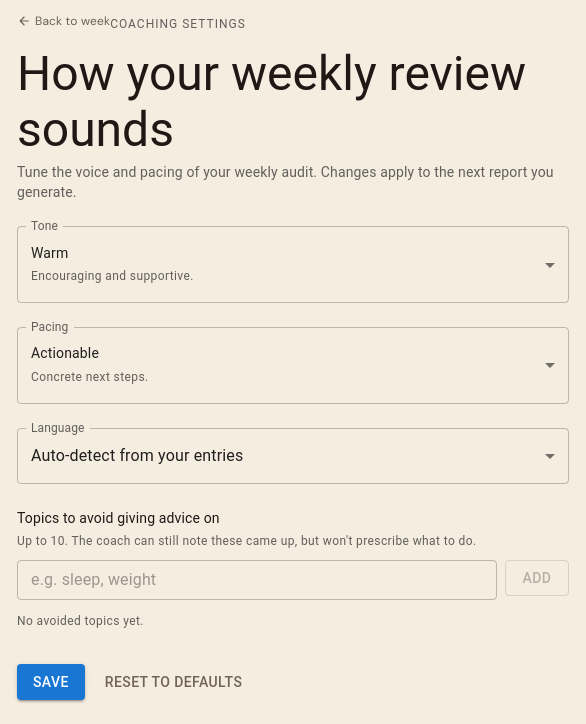
Test: SettingsPage › rejects a duplicate topic case-insensitively without adding a second chip
Type "Sleep" into the field with placeholder "e.g. sleep, weight".
click(257, 580); type("Sleep")  # box [17,560,497,600]
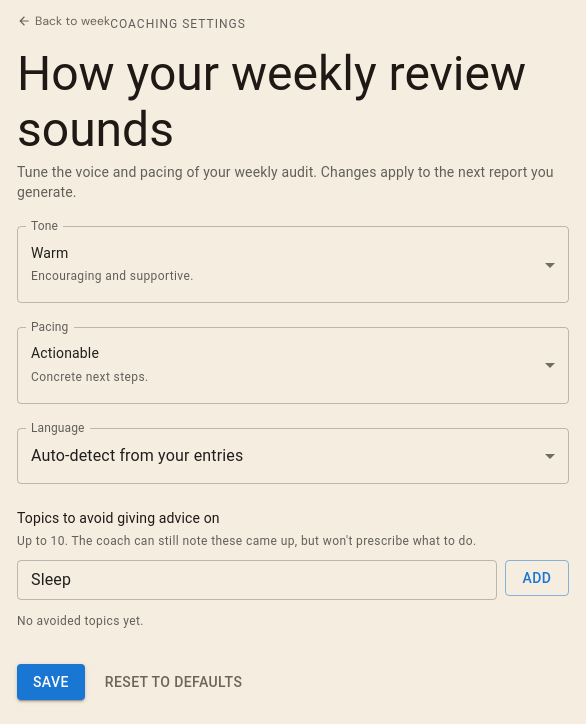
Press Enter in the field with placeholder "e.g. sleep, weight", box [17,560,497,600]
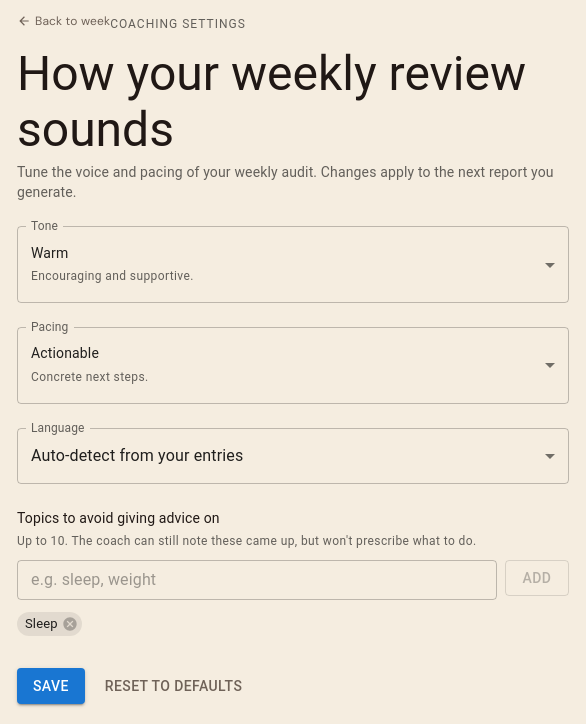
Expected: the text "Sleep" is shown, [25,616,58,631]
Re-add same value with different case — the input clears but no new chip appears.
Type "sleep" into the field with placeholder "e.g. sleep, weight".
click(257, 580); type("sleep")  # box [17,560,497,600]
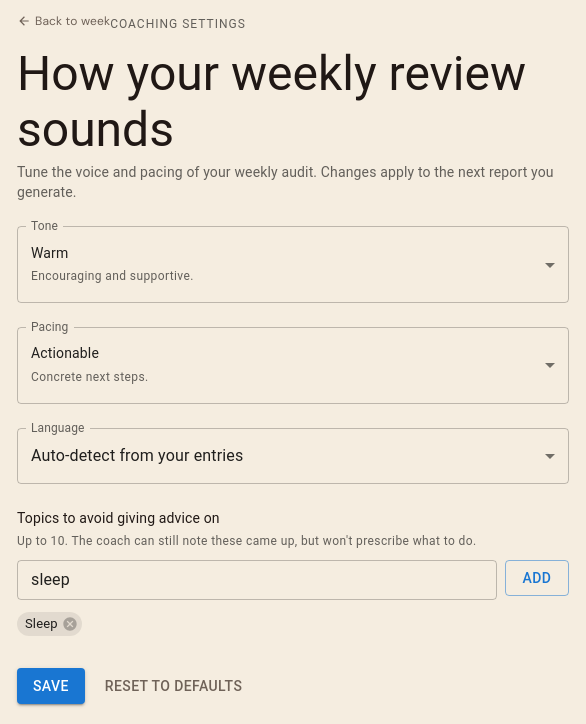
Press Enter in the field with placeholder "e.g. sleep, weight", box [17,560,497,600]
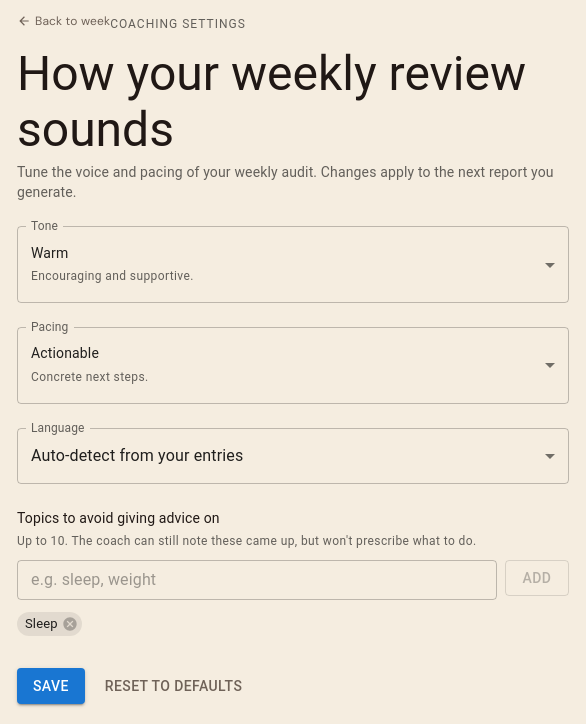
Expected: the text "Sleep" is shown once, [25,616,58,631]
Expected: the field with placeholder "e.g. sleep, weight" is empty, [17,560,497,600]
